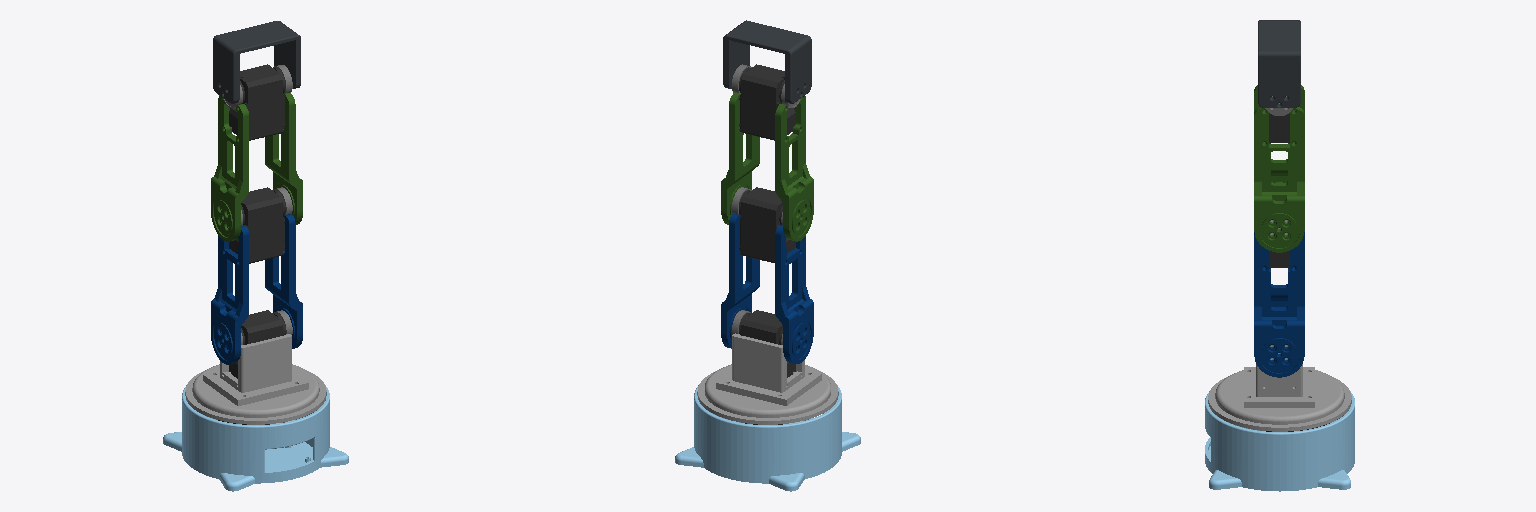
robot.urdf — onshape_export:
<?xml version="1.0" ?>
<!-- Generated using onshape-to-robot -->
<!-- Onshape https://cad.onshape.com/documents/b026964aa62daf9c1ecc4815/w/b181745cba52742b3ffb21e6/e/5ac1da73cba8f2619ef0b056 -->
<robot name="onshape_export">
  <!-- Link base_of_shoulder -->
  <link name="base_of_shoulder">
    <inertial>
      <origin xyz="0 0 0" rpy="0 0 0"/>
      <mass value="0"/>
      <inertia ixx="0" ixy="0" ixz="0" iyy="0" iyz="0" izz="0"/>
    </inertial>
    <!-- Part j2_servo -->
    <visual>
      <origin xyz="-0.0127266 0.021403 0.0237284" rpy="-0 -0 -0"/>
      <geometry>
        <mesh filename="package://assets/j2_servo.stl"/>
      </geometry>
      <material name="j2_servo_material">
        <color rgba="0.247059 0.247059 0.247059 1"/>
      </material>
    </visual>
    <collision>
      <origin xyz="-0.0127266 0.021403 0.0237284" rpy="-0 -0 -0"/>
      <geometry>
        <mesh filename="package://assets/j2_servo.stl"/>
      </geometry>
    </collision>
    <!-- Part base_of_shoulder -->
    <visual>
      <origin xyz="-0.0133535 0.025576 0.00282843" rpy="0 -0 -1.5708"/>
      <geometry>
        <mesh filename="package://assets/base_of_shoulder.stl"/>
      </geometry>
      <material name="base_of_shoulder_material">
        <color rgba="0.647059 0.647059 0.647059 1"/>
      </material>
    </visual>
    <collision>
      <origin xyz="-0.0133535 0.025576 0.00282843" rpy="0 -0 -1.5708"/>
      <geometry>
        <mesh filename="package://assets/base_of_shoulder.stl"/>
      </geometry>
    </collision>
    <!-- Part socker_j1 -->
    <visual>
      <origin xyz="-0.0175265 0.021403 0.00282843" rpy="-0 -0 -0"/>
      <geometry>
        <mesh filename="package://assets/socker_j1.stl"/>
      </geometry>
      <material name="socker_j1_material">
        <color rgba="0.647059 0.647059 0.647059 1"/>
      </material>
    </visual>
    <collision>
      <origin xyz="-0.0175265 0.021403 0.00282843" rpy="-0 -0 -0"/>
      <geometry>
        <mesh filename="package://assets/socker_j1.stl"/>
      </geometry>
    </collision>
  </link>
  <!-- Link base_servo_board -->
  <link name="base_servo_board">
    <inertial>
      <origin xyz="0 0 0" rpy="0 0 0"/>
      <mass value="0"/>
      <inertia ixx="0" ixy="0" ixz="0" iyy="0" iyz="0" izz="0"/>
    </inertial>
    <!-- Part base_servo_board -->
    <visual>
      <origin xyz="-0.0038 -0 -0.0398" rpy="0 0 -0"/>
      <geometry>
        <mesh filename="package://assets/base_servo_board.stl"/>
      </geometry>
      <material name="base_servo_board_material">
        <color rgba="0.615686 0.811765 0.929412 1"/>
      </material>
    </visual>
    <collision>
      <origin xyz="-0.0038 -0 -0.0398" rpy="0 0 -0"/>
      <geometry>
        <mesh filename="package://assets/base_servo_board.stl"/>
      </geometry>
    </collision>
    <!-- Part servo_motor_sts3215_v10 -->
    <visual>
      <origin xyz="-0.0038 0 -0.0398" rpy="-0 0 -0"/>
      <geometry>
        <mesh filename="package://assets/servo_motor_sts3215_v10.stl"/>
      </geometry>
      <material name="servo_motor_sts3215_v10_material">
        <color rgba="0.247059 0.247059 0.247059 1"/>
      </material>
    </visual>
    <collision>
      <origin xyz="-0.0038 0 -0.0398" rpy="-0 0 -0"/>
      <geometry>
        <mesh filename="package://assets/servo_motor_sts3215_v10.stl"/>
      </geometry>
    </collision>
  </link>
  <!-- Joint from base_of_shoulder to base_servo_board -->
  <joint name="Servor_1_to_waist" type="revolute">
    <origin xyz="-0.0133535 0.021776 0.0426284" rpy="0 -0 -1.5708"/>
    <parent link="base_of_shoulder"/>
    <child link="base_servo_board"/>
    <axis xyz="0 0 1"/>
    <limit effort="10" velocity="10" lower="-3.14159" upper="3.14159"/>
  </joint>
  <!-- Link shoulder_left -->
  <link name="shoulder_left">
    <inertial>
      <origin xyz="0 0 0" rpy="0 0 0"/>
      <mass value="0"/>
      <inertia ixx="0" ixy="0" ixz="0" iyy="0" iyz="0" izz="0"/>
    </inertial>
    <!-- Part shoulder_left -->
    <visual>
      <origin xyz="-0 -0.0679 0.0176" rpy="-1.5708 -1.5708 0"/>
      <geometry>
        <mesh filename="package://assets/shoulder_left.stl"/>
      </geometry>
      <material name="shoulder_left_material">
        <color rgba="0.0627451 0.266667 0.490196 1"/>
      </material>
    </visual>
    <collision>
      <origin xyz="-0 -0.0679 0.0176" rpy="-1.5708 -1.5708 0"/>
      <geometry>
        <mesh filename="package://assets/shoulder_left.stl"/>
      </geometry>
    </collision>
    <!-- Part left_cover -->
    <visual>
      <origin xyz="-0 -0.0679 0.0176" rpy="-1.5708 -1.5708 0"/>
      <geometry>
        <mesh filename="package://assets/left_cover.stl"/>
      </geometry>
      <material name="left_cover_material">
        <color rgba="0.498039 0.498039 0.498039 1"/>
      </material>
    </visual>
    <collision>
      <origin xyz="-0 -0.0679 0.0176" rpy="-1.5708 -1.5708 0"/>
      <geometry>
        <mesh filename="package://assets/left_cover.stl"/>
      </geometry>
    </collision>
    <!-- Part j3_servo -->
    <visual>
      <origin xyz="0 -0.0679 0.0175809" rpy="-1.5708 -1.5708 0"/>
      <geometry>
        <mesh filename="package://assets/j3_servo.stl"/>
      </geometry>
      <material name="j3_servo_material">
        <color rgba="0.247059 0.247059 0.247059 1"/>
      </material>
    </visual>
    <collision>
      <origin xyz="0 -0.0679 0.0175809" rpy="-1.5708 -1.5708 0"/>
      <geometry>
        <mesh filename="package://assets/j3_servo.stl"/>
      </geometry>
    </collision>
    <!-- Part right_cover -->
    <visual>
      <origin xyz="0 -0.0679 0.0175617" rpy="-1.5708 -1.5708 0"/>
      <geometry>
        <mesh filename="package://assets/right_cover.stl"/>
      </geometry>
      <material name="right_cover_material">
        <color rgba="0.498039 0.498039 0.498039 1"/>
      </material>
    </visual>
    <collision>
      <origin xyz="0 -0.0679 0.0175617" rpy="-1.5708 -1.5708 0"/>
      <geometry>
        <mesh filename="package://assets/right_cover.stl"/>
      </geometry>
    </collision>
    <!-- Part shoulder_right -->
    <visual>
      <origin xyz="0 -0.0679 0.0175617" rpy="-1.5708 -1.5708 0"/>
      <geometry>
        <mesh filename="package://assets/shoulder_right.stl"/>
      </geometry>
      <material name="shoulder_right_material">
        <color rgba="0.0627451 0.266667 0.490196 1"/>
      </material>
    </visual>
    <collision>
      <origin xyz="0 -0.0679 0.0175617" rpy="-1.5708 -1.5708 0"/>
      <geometry>
        <mesh filename="package://assets/shoulder_right.stl"/>
      </geometry>
    </collision>
  </link>
  <!-- Link left_cover -->
  <link name="left_cover">
    <inertial>
      <origin xyz="0 0 0" rpy="0 0 0"/>
      <mass value="0"/>
      <inertia ixx="0" ixy="0" ixz="0" iyy="0" iyz="0" izz="0"/>
    </inertial>
    <!-- Part right_cover_2 -->
    <visual>
      <origin xyz="-0 -0.0679 0.0175617" rpy="-1.5708 -1.5708 0"/>
      <geometry>
        <mesh filename="package://assets/right_cover.stl"/>
      </geometry>
      <material name="right_cover_2_material">
        <color rgba="0.498039 0.498039 0.498039 1"/>
      </material>
    </visual>
    <collision>
      <origin xyz="-0 -0.0679 0.0175617" rpy="-1.5708 -1.5708 0"/>
      <geometry>
        <mesh filename="package://assets/right_cover.stl"/>
      </geometry>
    </collision>
    <!-- Part elbow_left -->
    <visual>
      <origin xyz="0 -0.0539 0.0176" rpy="-1.5708 -1.5708 0"/>
      <geometry>
        <mesh filename="package://assets/elbow_left.stl"/>
      </geometry>
      <material name="elbow_left_material">
        <color rgba="0.25098 0.419608 0.172549 1"/>
      </material>
    </visual>
    <collision>
      <origin xyz="0 -0.0539 0.0176" rpy="-1.5708 -1.5708 0"/>
      <geometry>
        <mesh filename="package://assets/elbow_left.stl"/>
      </geometry>
    </collision>
    <!-- Part elbow_right -->
    <visual>
      <origin xyz="-0 -0.0539 0.0175617" rpy="-1.5708 -1.5708 0"/>
      <geometry>
        <mesh filename="package://assets/elbow_right.stl"/>
      </geometry>
      <material name="elbow_right_material">
        <color rgba="0.25098 0.419608 0.172549 1"/>
      </material>
    </visual>
    <collision>
      <origin xyz="-0 -0.0539 0.0175617" rpy="-1.5708 -1.5708 0"/>
      <geometry>
        <mesh filename="package://assets/elbow_right.stl"/>
      </geometry>
    </collision>
    <!-- Part left_cover_2 -->
    <visual>
      <origin xyz="-0 -0.0679 0.0176" rpy="-1.5708 -1.5708 0"/>
      <geometry>
        <mesh filename="package://assets/left_cover.stl"/>
      </geometry>
      <material name="left_cover_2_material">
        <color rgba="0.498039 0.498039 0.498039 1"/>
      </material>
    </visual>
    <collision>
      <origin xyz="-0 -0.0679 0.0176" rpy="-1.5708 -1.5708 0"/>
      <geometry>
        <mesh filename="package://assets/left_cover.stl"/>
      </geometry>
    </collision>
    <!-- Part j3_servo_2 -->
    <visual>
      <origin xyz="-0 -0.0539 0.0175809" rpy="-1.5708 -1.5708 0"/>
      <geometry>
        <mesh filename="package://assets/j3_servo__2.stl"/>
      </geometry>
      <material name="j3_servo_2_material">
        <color rgba="0.247059 0.247059 0.247059 1"/>
      </material>
    </visual>
    <collision>
      <origin xyz="-0 -0.0539 0.0175809" rpy="-1.5708 -1.5708 0"/>
      <geometry>
        <mesh filename="package://assets/j3_servo__2.stl"/>
      </geometry>
    </collision>
  </link>
  <!-- Link left_cover_2 -->
  <link name="left_cover_2">
    <inertial>
      <origin xyz="0 0 0" rpy="0 0 0"/>
      <mass value="0"/>
      <inertia ixx="0" ixy="0" ixz="0" iyy="0" iyz="0" izz="0"/>
    </inertial>
    <!-- Part left_cover_3 -->
    <visual>
      <origin xyz="-0 -0.1499 0.0581" rpy="-1.5708 -1.5708 0"/>
      <geometry>
        <mesh filename="package://assets/left_cover__2.stl"/>
      </geometry>
      <material name="left_cover_3_material">
        <color rgba="0.498039 0.498039 0.498039 1"/>
      </material>
    </visual>
    <collision>
      <origin xyz="-0 -0.1499 0.0581" rpy="-1.5708 -1.5708 0"/>
      <geometry>
        <mesh filename="package://assets/left_cover__2.stl"/>
      </geometry>
    </collision>
    <!-- Part left_cover_4 -->
    <visual>
      <origin xyz="-0 -0.0539 0.0176" rpy="-1.5708 -1.5708 0"/>
      <geometry>
        <mesh filename="package://assets/left_cover__3.stl"/>
      </geometry>
      <material name="left_cover_4_material">
        <color rgba="0.498039 0.498039 0.498039 1"/>
      </material>
    </visual>
    <collision>
      <origin xyz="-0 -0.0539 0.0176" rpy="-1.5708 -1.5708 0"/>
      <geometry>
        <mesh filename="package://assets/left_cover__3.stl"/>
      </geometry>
    </collision>
    <!-- Part part_11 -->
    <visual>
      <origin xyz="-0 -0.1499 0.0176" rpy="-1.5708 -1.5708 0"/>
      <geometry>
        <mesh filename="package://assets/part_11.stl"/>
      </geometry>
      <material name="part_11_material">
        <color rgba="0.262745 0.282353 0.301961 1"/>
      </material>
    </visual>
    <collision>
      <origin xyz="-0 -0.1499 0.0176" rpy="-1.5708 -1.5708 0"/>
      <geometry>
        <mesh filename="package://assets/part_11.stl"/>
      </geometry>
    </collision>
  </link>
  <!-- Joint from left_cover to left_cover_2 -->
  <joint name="left_3_arm" type="revolute">
    <origin xyz="0 0.096 -1.91259e-05" rpy="0 0 0"/>
    <parent link="left_cover"/>
    <child link="left_cover_2"/>
    <axis xyz="0 0 1"/>
    <limit effort="10" velocity="10" lower="-2.0944" upper="2.0944"/>
  </joint>
  <!-- Joint from shoulder_left to left_cover -->
  <joint name="left_2_arm" type="revolute">
    <origin xyz="0 0.096 -1.91259e-05" rpy="0 -0 0"/>
    <parent link="shoulder_left"/>
    <child link="left_cover"/>
    <axis xyz="0 0 1"/>
    <limit effort="10" velocity="10" lower="-2.0944" upper="2.0944"/>
  </joint>
  <!-- Joint from base_of_shoulder to shoulder_left -->
  <joint name="left_1_arm" type="revolute">
    <origin xyz="-0.0303266 0.021403 0.0916284" rpy="1.5708 0 1.5708"/>
    <parent link="base_of_shoulder"/>
    <child link="shoulder_left"/>
    <axis xyz="0 0 1"/>
    <limit effort="10" velocity="10" lower="-1.5708" upper="1.5708"/>
  </joint>
</robot>

--- Render facts (derived) ---
Views: 3 orthographic renders of the robot side by side, from view 1: azimuth 30°, elevation 25°; view 2: azimuth 150°, elevation 25°; view 3: azimuth 270°, elevation 25°.
Robot: onshape_export — 5 links, 4 joints (4 revolute); root link base_of_shoulder; default pose: every joint at zero.
Links seen in each view (by area): view 1: base_servo_board, left_cover, base_of_shoulder, shoulder_left, left_cover_2; view 2: base_servo_board, base_of_shoulder, left_cover, shoulder_left, left_cover_2; view 3: base_servo_board, base_of_shoulder, left_cover, shoulder_left, left_cover_2.
Link boxes in pixels (bbox=[...]): base_servo_board: bbox=[163, 385, 348, 491]; left_cover: bbox=[211, 64, 302, 241]; base_of_shoulder: bbox=[185, 310, 326, 424]; shoulder_left: bbox=[211, 187, 302, 364]; left_cover_2: bbox=[213, 21, 300, 108]; base_servo_board: bbox=[675, 385, 860, 491]; base_of_shoulder: bbox=[697, 310, 838, 424]; left_cover: bbox=[721, 64, 813, 241]; shoulder_left: bbox=[721, 187, 813, 363]; left_cover_2: bbox=[723, 20, 811, 107]; base_servo_board: bbox=[1205, 391, 1354, 491]; base_of_shoulder: bbox=[1208, 364, 1351, 431]; left_cover: bbox=[1254, 85, 1304, 252]; shoulder_left: bbox=[1254, 232, 1304, 377]; left_cover_2: bbox=[1258, 20, 1300, 115].
Size in the robot's own frame: 0.105 by 0.105 by 0.3258 metres.
Meshes: 16 distinct files referenced, 18 mesh visuals loaded (16 binary STL).
